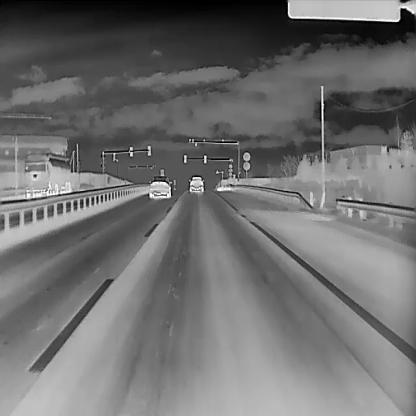car: (22, 151, 72, 198), (148, 174, 172, 197), (188, 174, 204, 192)
